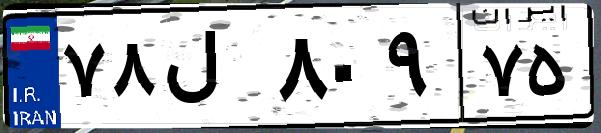0: (330, 28, 385, 110)
5: (525, 38, 570, 115)
7: (57, 26, 110, 100), (475, 38, 525, 113)
8: (270, 28, 330, 110), (110, 28, 158, 98)
9: (385, 28, 445, 110)
ل: (158, 20, 270, 120)
